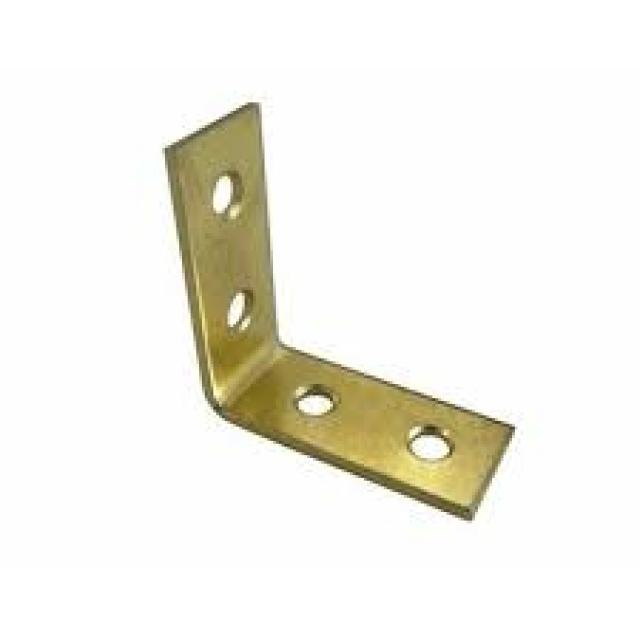holes: (404, 424, 452, 461), (208, 168, 242, 219), (293, 381, 336, 415), (225, 284, 253, 330)
